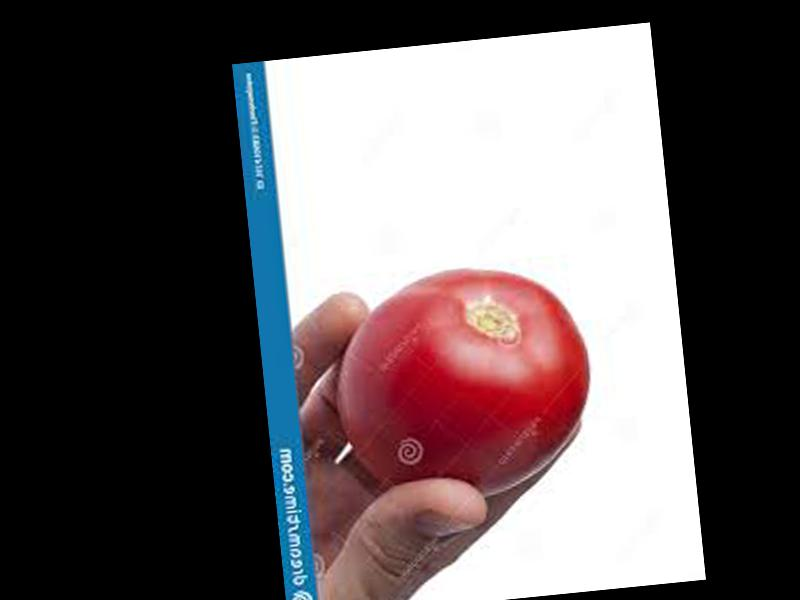Tomato: (327, 258, 600, 510)
